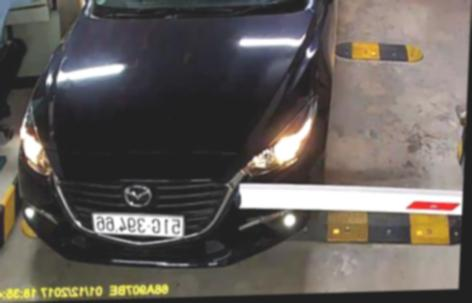License_Plate: (90, 206, 191, 241)
